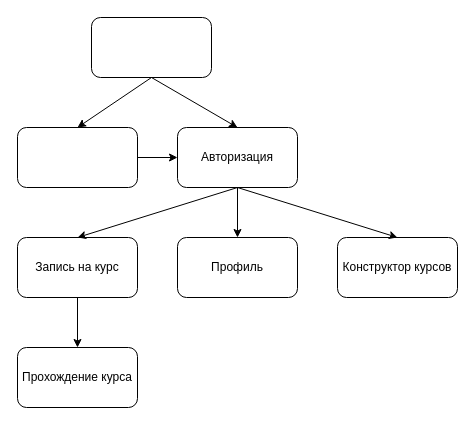
Image size: 475x425. Some labels were removed from this diagram. The centre of each missing label's shape, as x and y in pixels:
"Главное меню" goes at (151,47).
"Каталог курсов" goes at (77,157).
